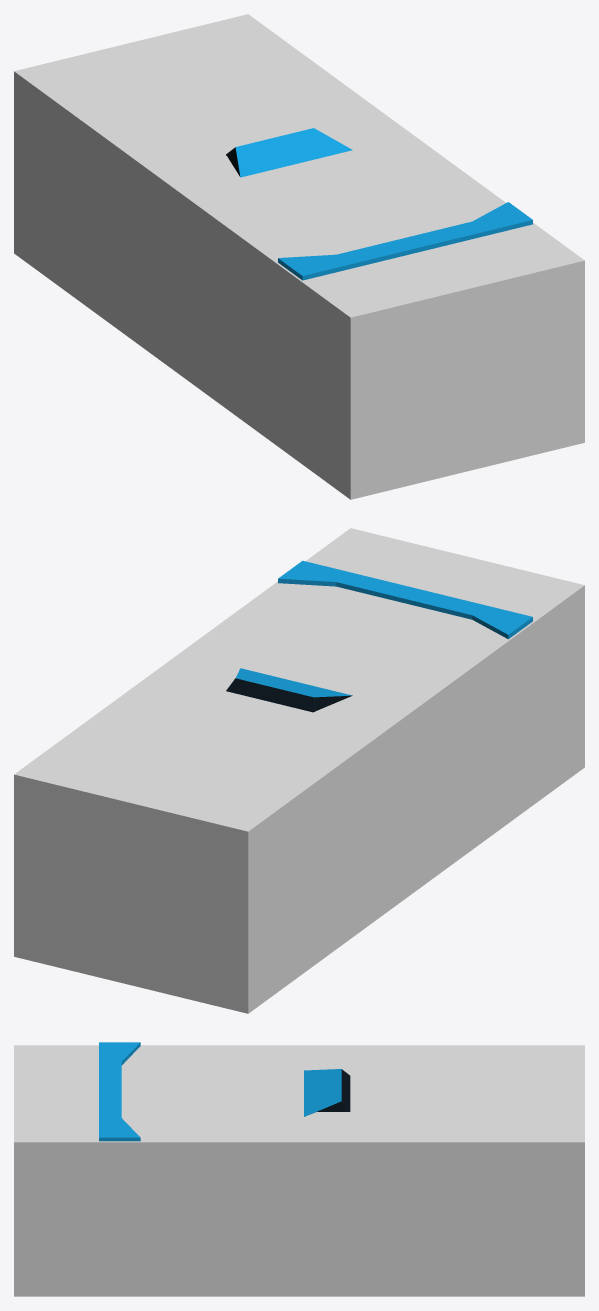
3 renders of one model, top to bottom at view 1: azimuth 30°, elevation 25°; view 2: azimuth 150°, elevation 25°; view 3: azimuth 270°, elevation 25°, orthographic. The views are drawn at different scales.
Parts seen in each view (by area): view 1: car_0002_box, car_0002; view 2: car_0002_box, car_0002; view 3: car_0002_box, car_0002.
Boxes of the visible parts, x1,y1,x2,y2 form: car_0002_box: (14, 14, 584, 499); car_0002: (226, 128, 532, 280); car_0002_box: (14, 528, 584, 1013); car_0002: (226, 560, 532, 712); car_0002_box: (14, 1045, 584, 1296); car_0002: (99, 1042, 350, 1141).
Bounding box in the file's own units: 2.69 × 2.11 × 6.7.
